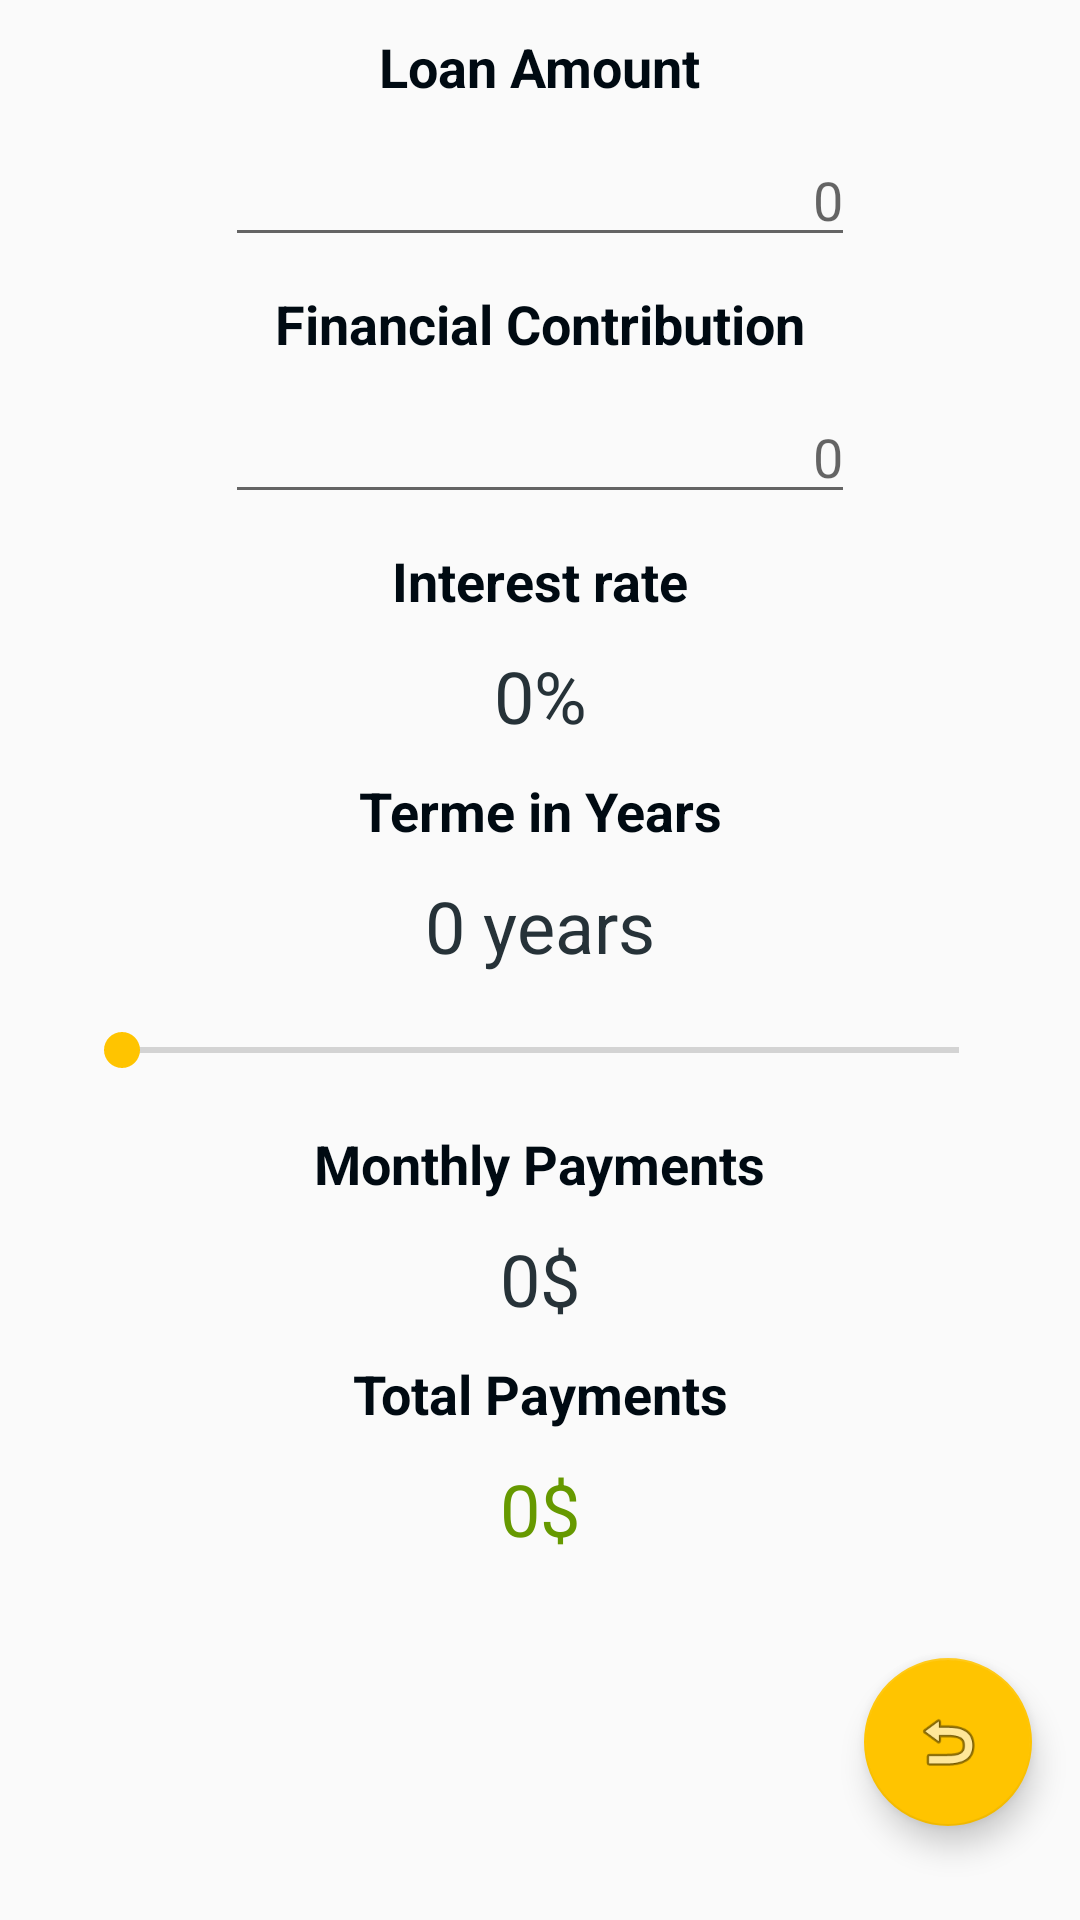

Screen size 1080 x 1920. Icon name, then its center in pixels as point (x, y):
revert: point (948, 1742)
